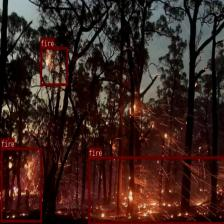fire: (88, 156, 224, 224), (0, 147, 42, 222), (40, 46, 67, 86)
